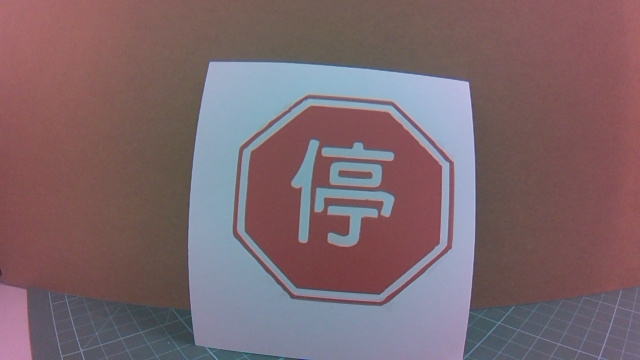stop: (260, 95, 446, 301)
